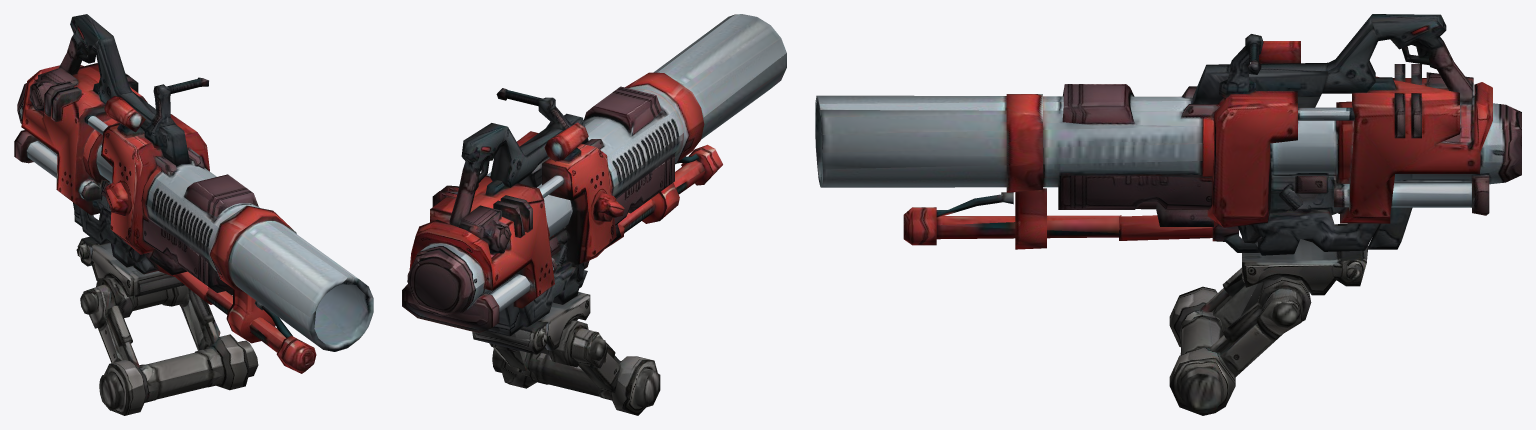
The picture shows the model from 3 angles, left to right: view 1: azimuth 30°, elevation 25°; view 2: azimuth 150°, elevation 25°; view 3: azimuth 270°, elevation 25°; orthographic projection. The views are drawn at different scales.
Parts seen in each view (by area): view 1: gun; view 2: gun; view 3: gun.
Boxes of the visible parts, x1,y1,x2,y2 form: gun: (14, 14, 373, 415); gun: (402, 14, 786, 415); gun: (815, 14, 1521, 415).
Bounding box in the file's own units: 1.13 × 2.41 × 4.2.
1 material, 1 textured.
